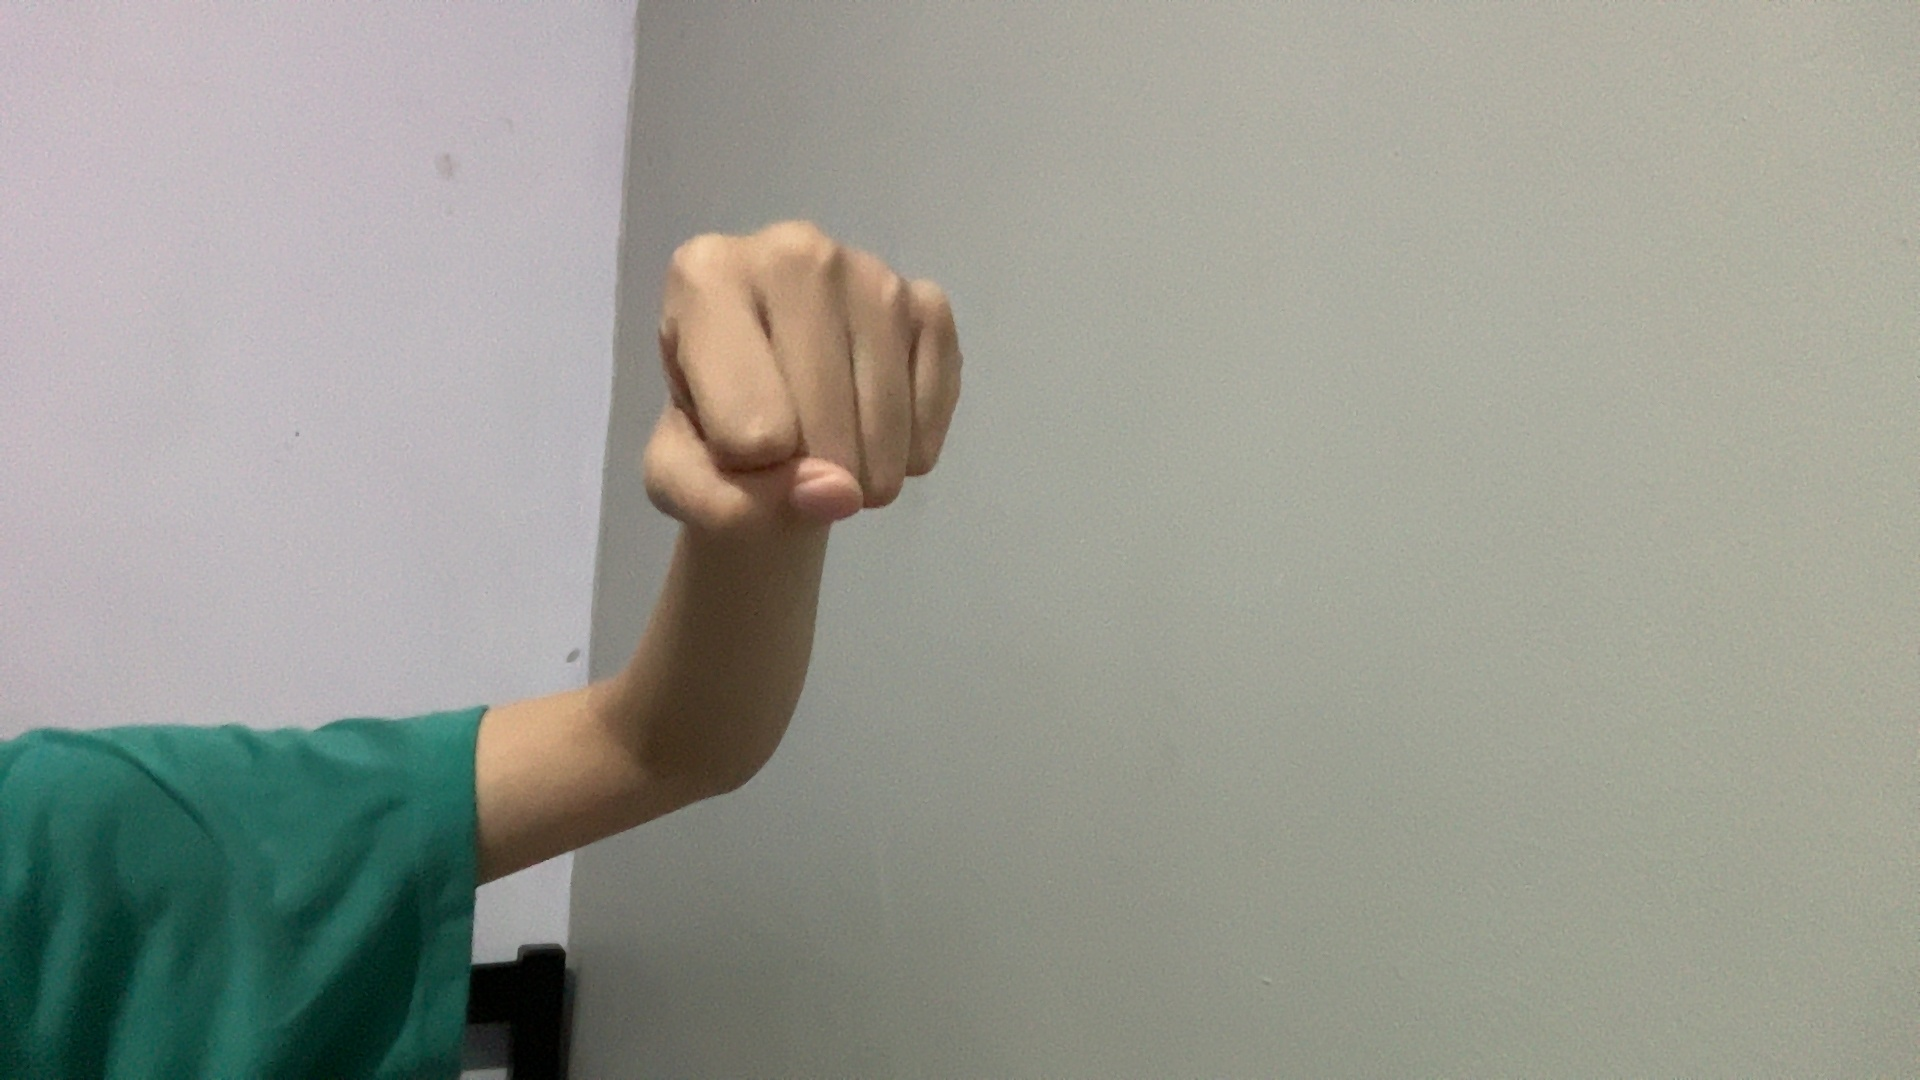Yes: (611, 120, 1048, 659)
